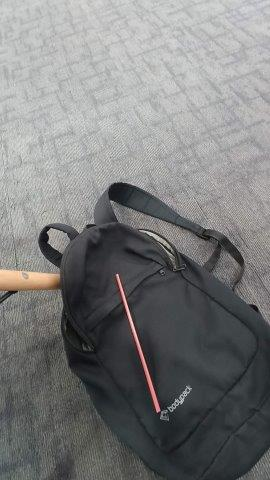sedotan: (115, 274, 161, 412)
